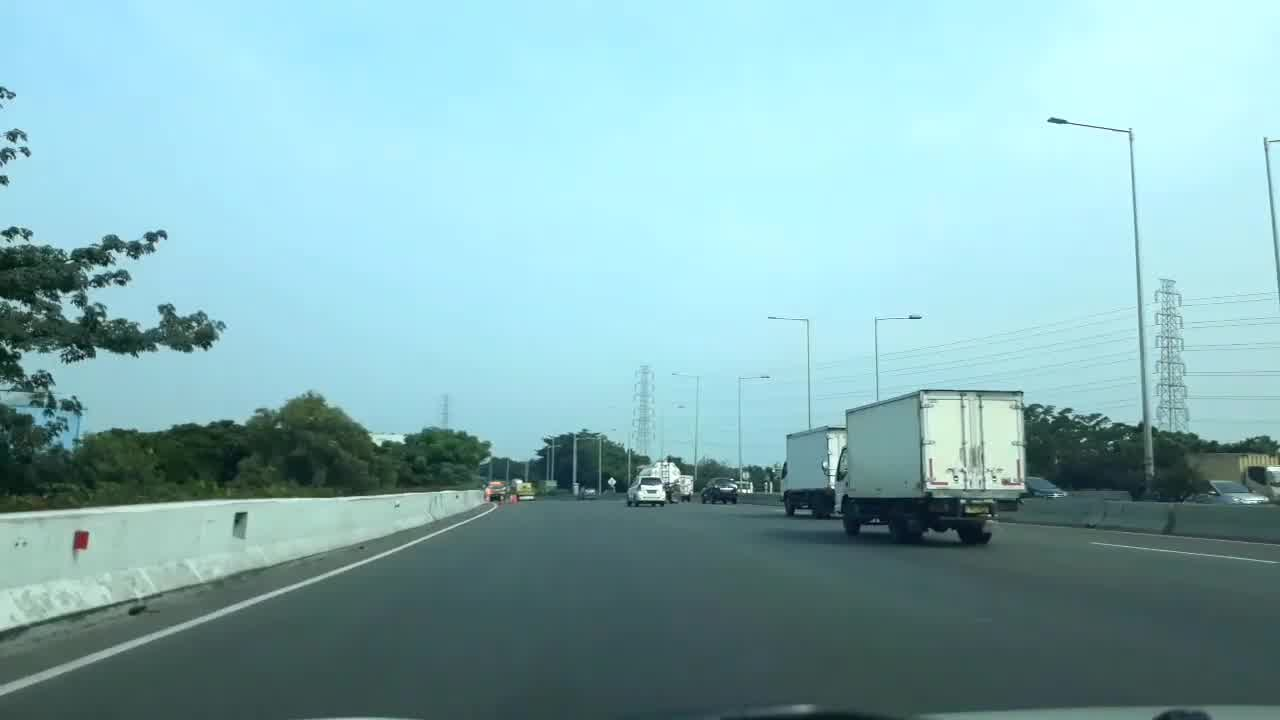plate_positive: (964, 505, 990, 514), (647, 490, 656, 493)
